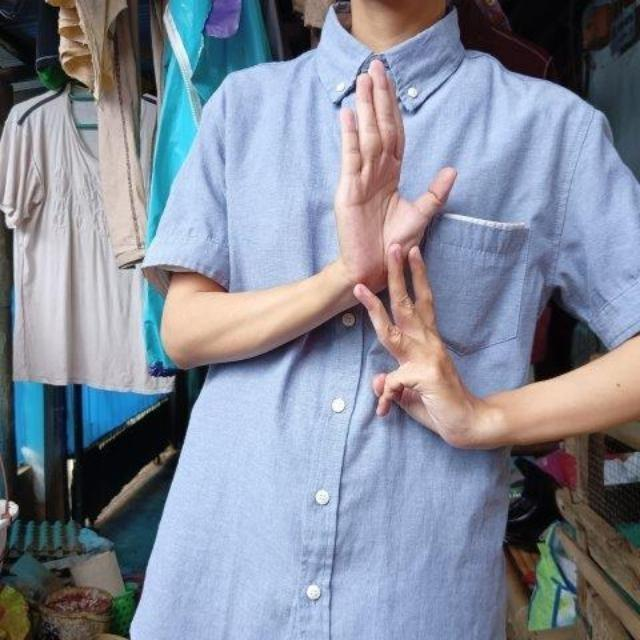M: (322, 54, 468, 377)
